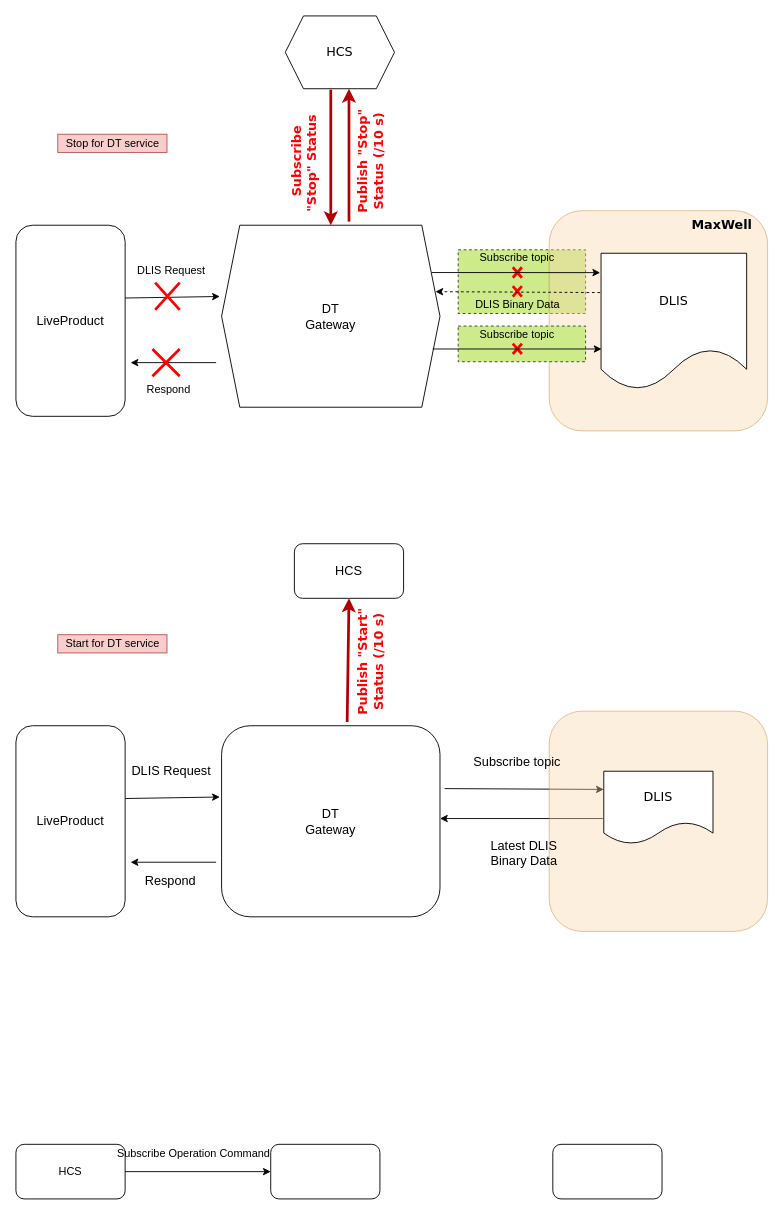
The diagram is 784 pixels wide and 1215 high, and some of its shapes have lost their labels. Here are the shapes that lost their labels. From the top down, the centre of each, then its label:
At point (325, 1171): "RT".
At point (607, 1171): "LiveQC".
